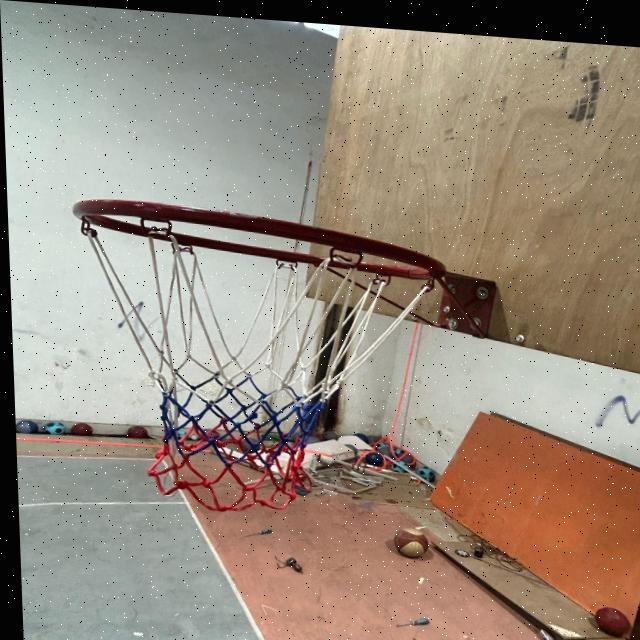hoop: (58, 173, 520, 507)
